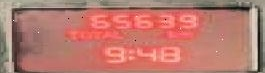3: (153, 13, 171, 28)
4: (134, 45, 155, 60)
5: (110, 13, 129, 28)
6: (86, 13, 107, 27), (131, 13, 150, 27)
8: (156, 44, 180, 61)
9: (100, 46, 124, 62), (177, 13, 195, 27)
X: (123, 47, 134, 61), (174, 30, 193, 38), (75, 29, 89, 39), (99, 29, 110, 39), (110, 29, 121, 39), (65, 29, 75, 39), (89, 29, 99, 39), (166, 29, 174, 39)
